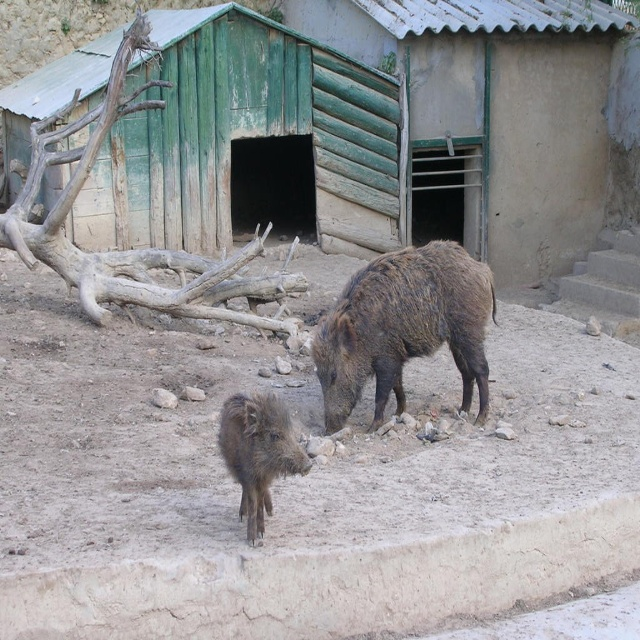Pig: (306, 236, 499, 449), (215, 391, 312, 549)
